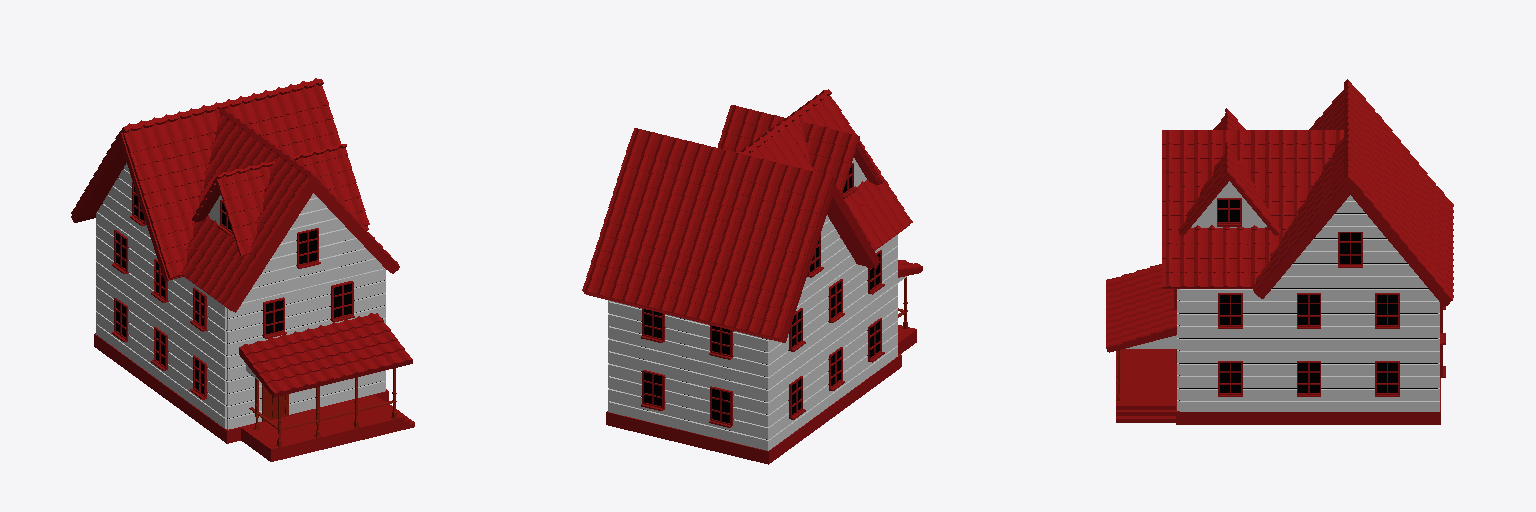
File: House1.obj
3 renders of one model, left to right at view 1: azimuth 30°, elevation 25°; view 2: azimuth 150°, elevation 25°; view 3: azimuth 270°, elevation 25°, orthographic.
Parts seen in each view (by area): view 1: House1_Plane.010; view 2: House1_Plane.010; view 3: House1_Plane.010.
Boxes of the visible parts, box(x1,y1,x2,y2) form: House1_Plane.010: box(71, 78, 414, 461); House1_Plane.010: box(582, 89, 922, 464); House1_Plane.010: box(1106, 79, 1453, 424).
Bounding box in the file's own units: 2.56 × 3.18 × 3.87.